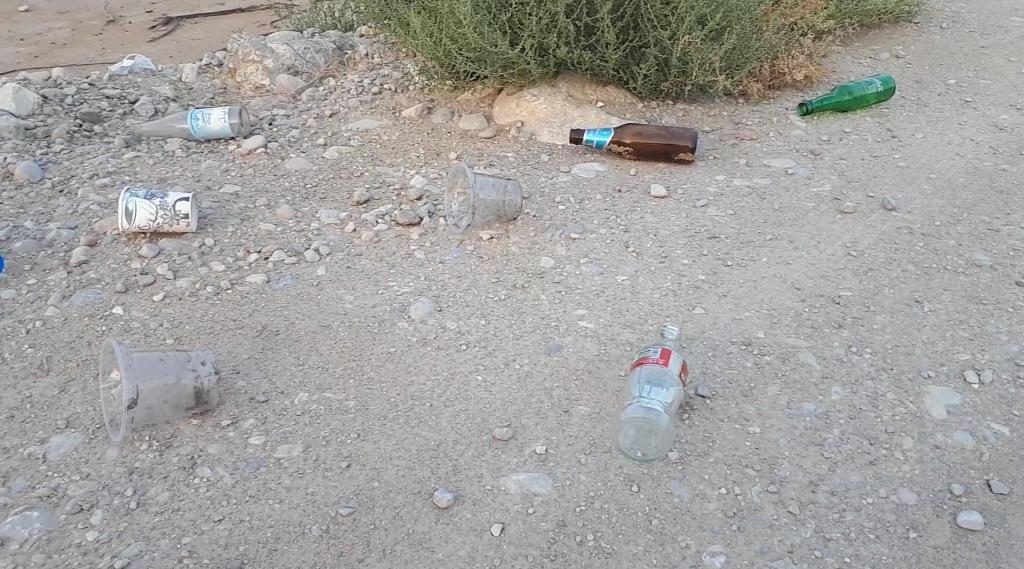garbage: (620, 295, 697, 481), (612, 320, 689, 463), (786, 65, 915, 124), (564, 120, 710, 170), (120, 106, 275, 148), (114, 178, 205, 249), (569, 124, 698, 163), (797, 73, 896, 117), (133, 106, 251, 142)
